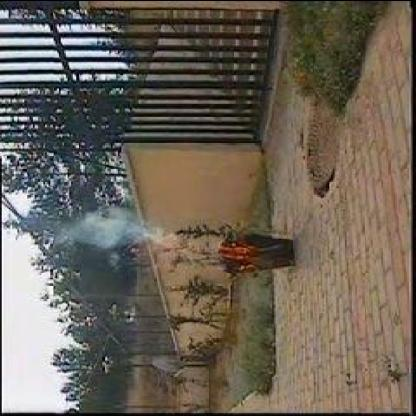-: (39, 202, 155, 245)
foggia-v2-map80-epoch100 - v1 4323: (218, 240, 249, 264)
